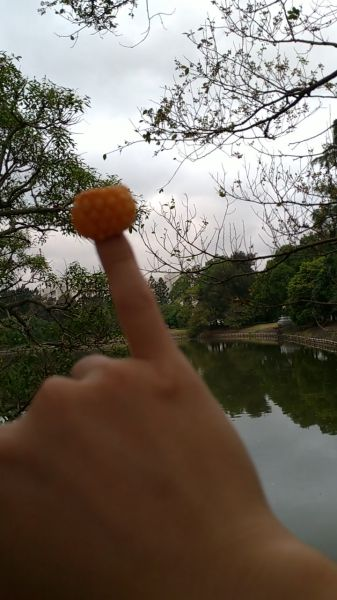eggs: (71, 185, 138, 240)
